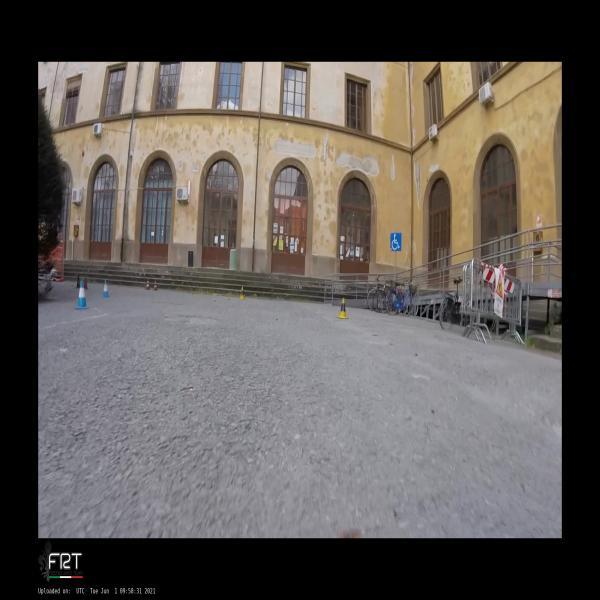blue_cone: (74, 280, 90, 309), (102, 280, 110, 298)
large_orange_cone: (145, 279, 150, 290), (153, 280, 157, 290)
unknown_cone: (74, 274, 80, 288), (84, 278, 88, 290)
yellow_cone: (337, 297, 349, 319), (239, 286, 245, 300)
